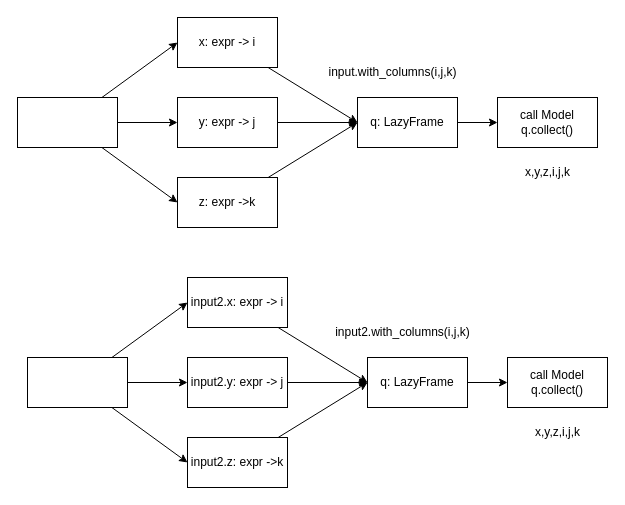
The diagram is 625 pixels wide and 505 high, and some of its shapes have lost their labels. Each missing label, with the centre of its shape:
"input2: pl.Lazy" belongs at (77,382).
"input: pl.Lazy" belongs at (67,122).
